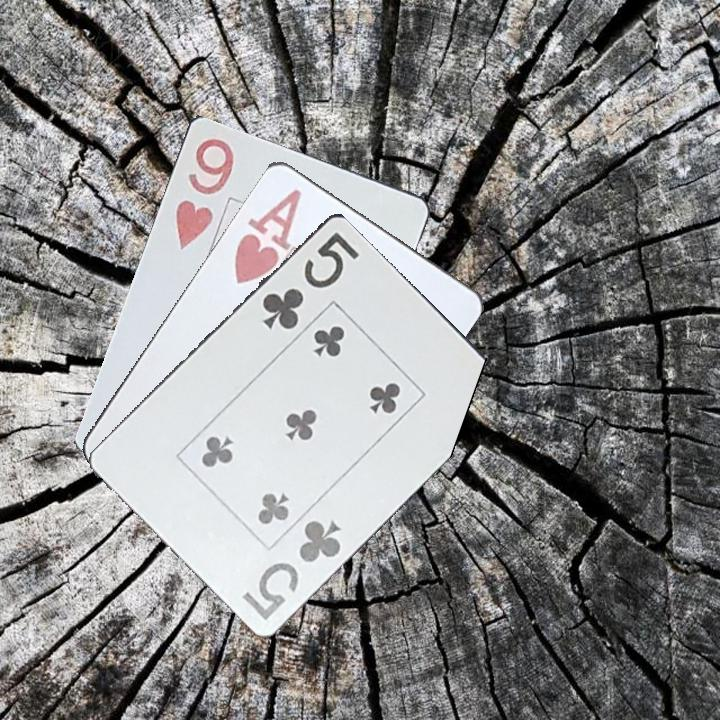5c: (238, 515, 345, 623), (258, 227, 363, 332)
9h: (171, 134, 237, 253)
Ah: (228, 185, 304, 288)
